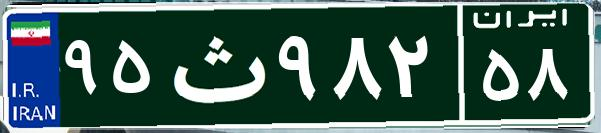2: (385, 28, 445, 110)
5: (475, 38, 525, 113), (110, 28, 158, 105)
8: (330, 28, 385, 110), (525, 38, 570, 115)
9: (273, 28, 330, 110), (57, 26, 110, 107)
ث: (158, 15, 273, 115)
